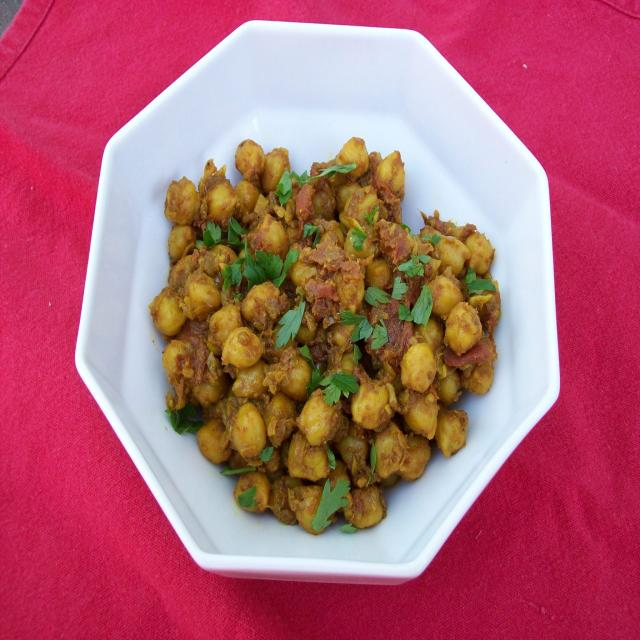garbanzos: (156, 152, 500, 540)
